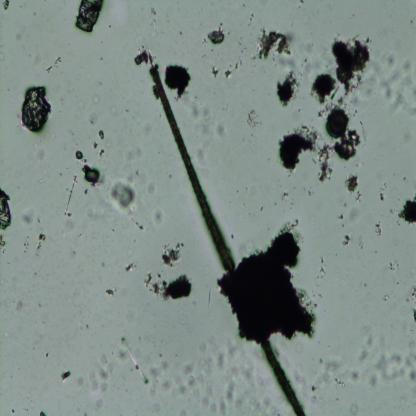Background material: (217, 230, 318, 348), (310, 33, 370, 111), (373, 52, 416, 117), (355, 346, 416, 389), (151, 361, 203, 406), (276, 124, 317, 174), (307, 354, 347, 404), (20, 83, 56, 135), (117, 333, 150, 385), (88, 350, 116, 410), (216, 343, 238, 414), (144, 270, 194, 300), (256, 27, 296, 64), (164, 61, 193, 101), (110, 177, 138, 213), (274, 74, 304, 106), (75, 0, 104, 33), (0, 184, 17, 232), (316, 141, 334, 184), (160, 240, 184, 270), (80, 162, 104, 189), (396, 195, 416, 225), (64, 176, 77, 216), (277, 54, 304, 73), (204, 26, 228, 46), (133, 47, 158, 66), (341, 130, 361, 147), (247, 106, 261, 129), (343, 174, 359, 192), (21, 208, 36, 226), (318, 256, 329, 280), (346, 206, 361, 223), (212, 66, 233, 77), (152, 207, 164, 226), (130, 216, 145, 231), (58, 368, 72, 383), (346, 401, 360, 416), (37, 232, 48, 251), (339, 231, 352, 247), (379, 180, 388, 202), (407, 285, 416, 304), (386, 260, 400, 272), (0, 229, 6, 254), (334, 142, 342, 160), (356, 236, 366, 250), (126, 260, 138, 271), (74, 148, 85, 160), (23, 235, 30, 253), (64, 219, 74, 231), (105, 286, 117, 296), (381, 292, 393, 302), (280, 190, 291, 200), (98, 147, 107, 159), (376, 220, 382, 238), (16, 298, 24, 310), (355, 190, 362, 202), (411, 308, 416, 323), (98, 131, 106, 139), (38, 410, 48, 416), (66, 212, 74, 218), (38, 179, 46, 184), (44, 352, 50, 358), (84, 188, 89, 195), (338, 215, 344, 219), (308, 191, 311, 196)
Diatom: (326, 112, 348, 137), (341, 142, 354, 157)
Hair: (149, 63, 304, 415)
